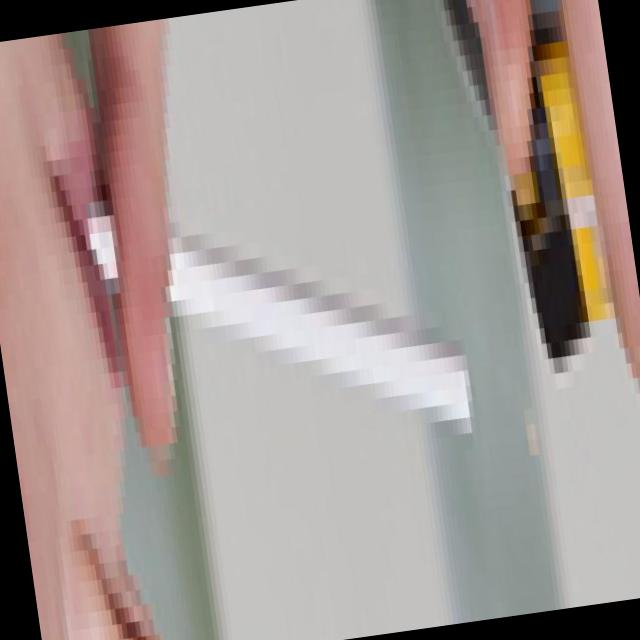cigarette: (78, 168, 484, 498)
